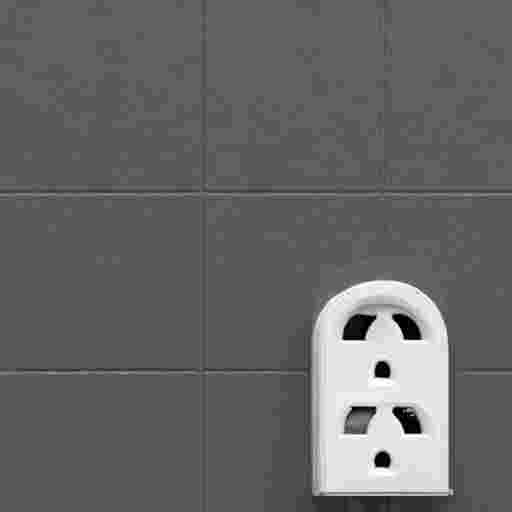power outlet: (311, 281, 452, 495)
